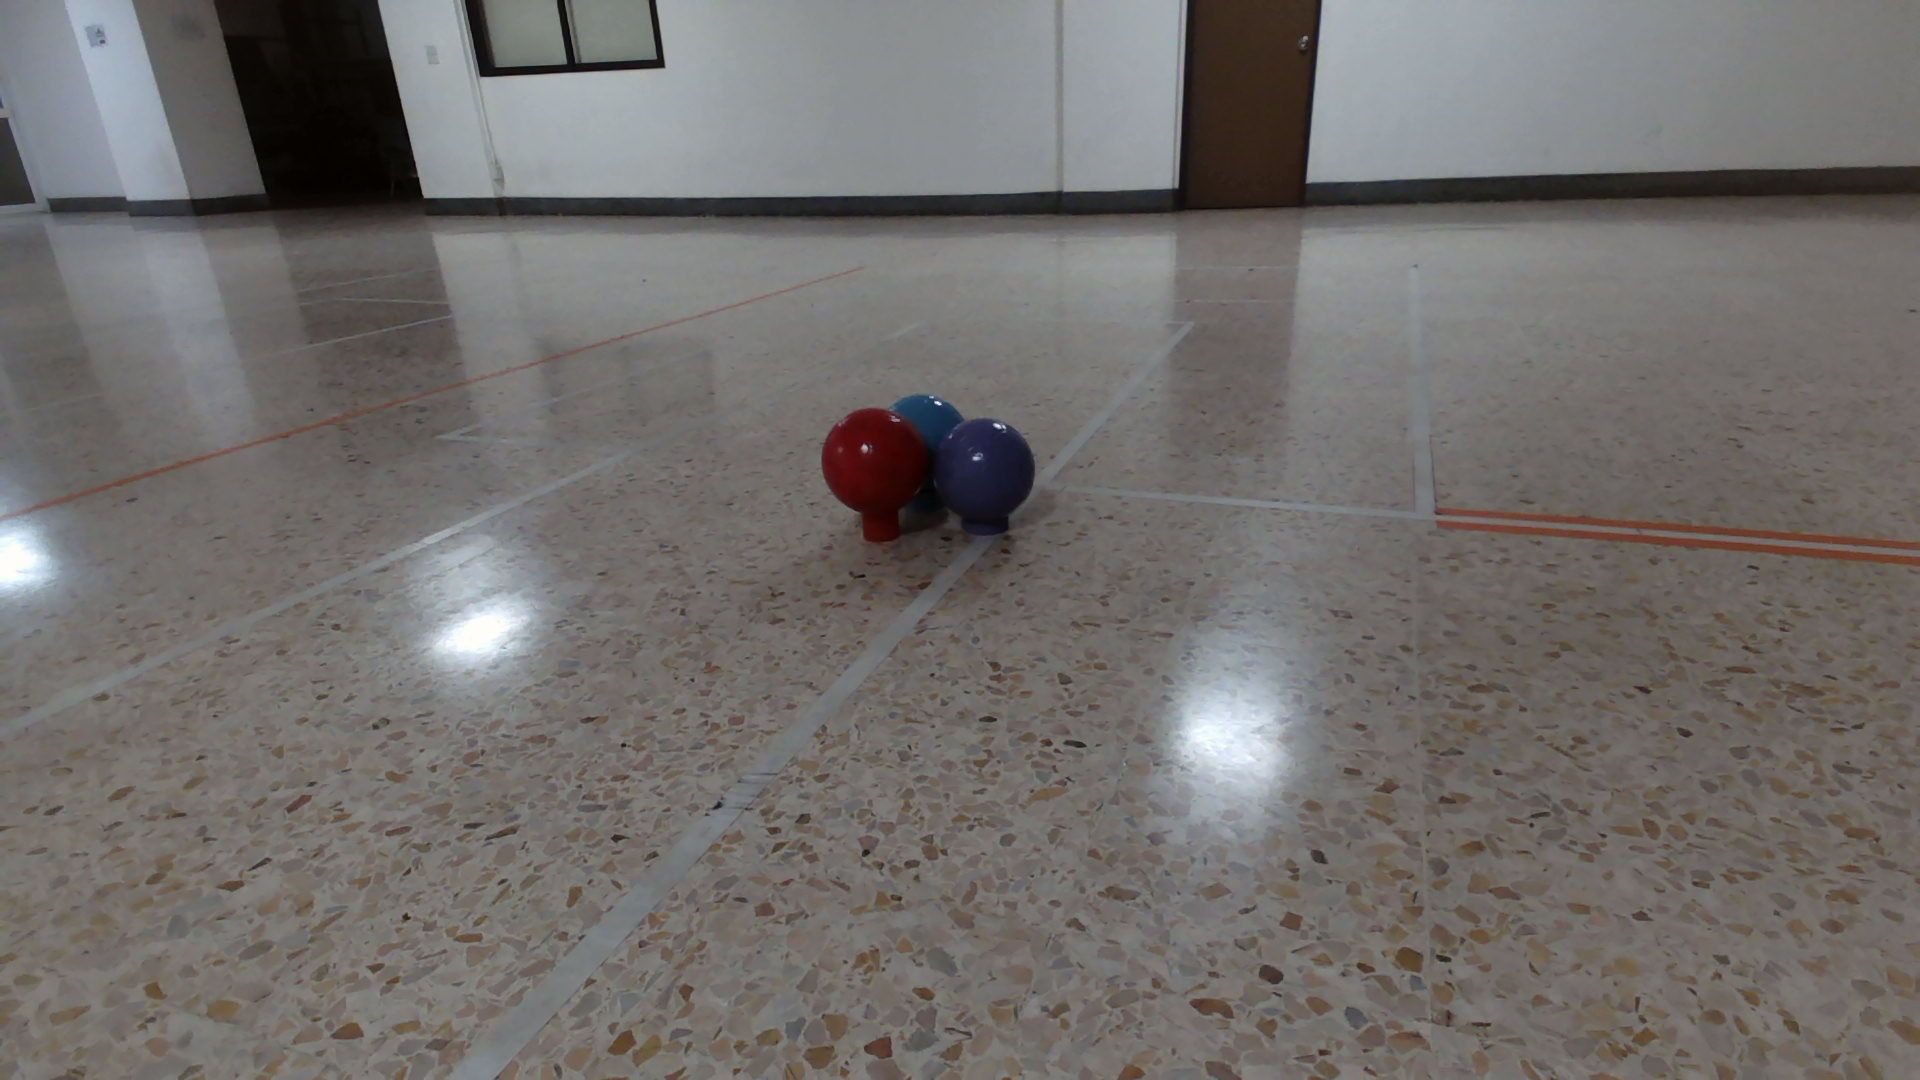Blue ball: (889, 393, 967, 451)
Purple ball: (932, 415, 1036, 524)
Red ball: (820, 407, 932, 516)
